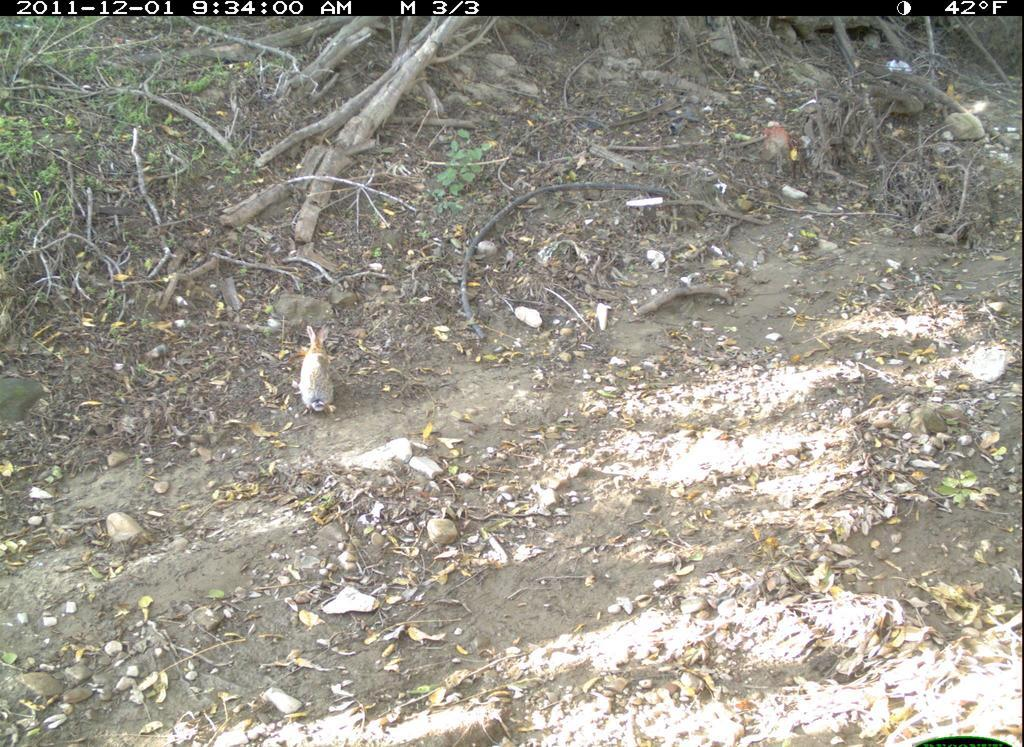rabbit: (294, 315, 344, 422)
